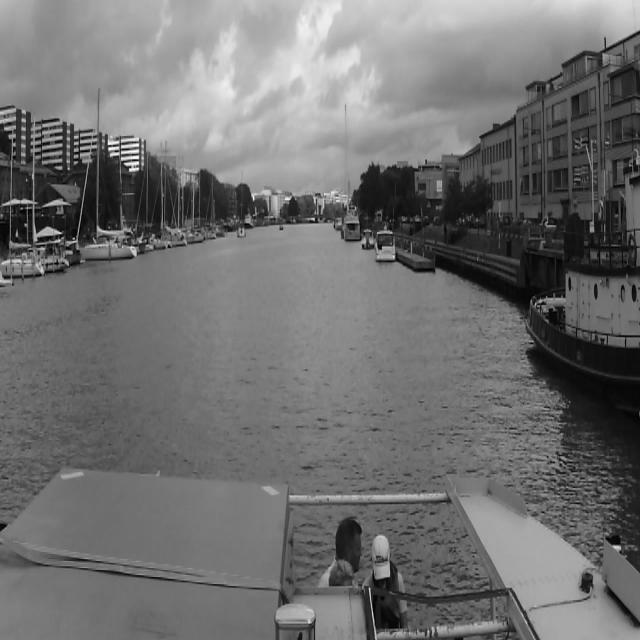ship: (525, 135, 639, 403), (80, 88, 136, 261), (0, 129, 44, 276), (166, 146, 202, 246), (344, 201, 360, 241), (375, 230, 395, 262), (237, 170, 246, 238), (361, 228, 373, 250), (279, 227, 283, 230)
